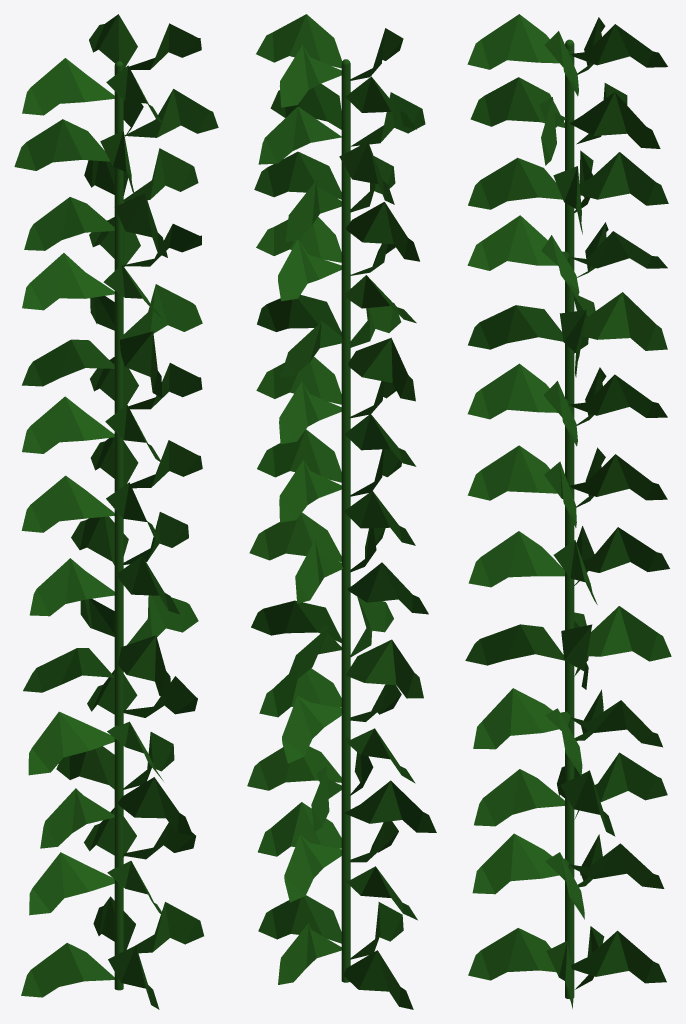
File: kelp.obj
3 views of the same model, side by side, from view 1: azimuth 30°, elevation 25°; view 2: azimuth 150°, elevation 25°; view 3: azimuth 270°, elevation 25° (orthographic). The views are drawn at different scales.
Parts seen in each view (by area): view 1: Plane.034; view 2: Plane.034; view 3: Plane.034.
Boxes of the visible parts, x1,y1,x2,y2 form: Plane.034: (14,14,218,1009); Plane.034: (247,14,436,1009); Plane.034: (465,14,671,1008).
Bounding box in the file's own units: 8.71 × 45.6 × 8.61.
Materials: 1 (1 with a texture image).
